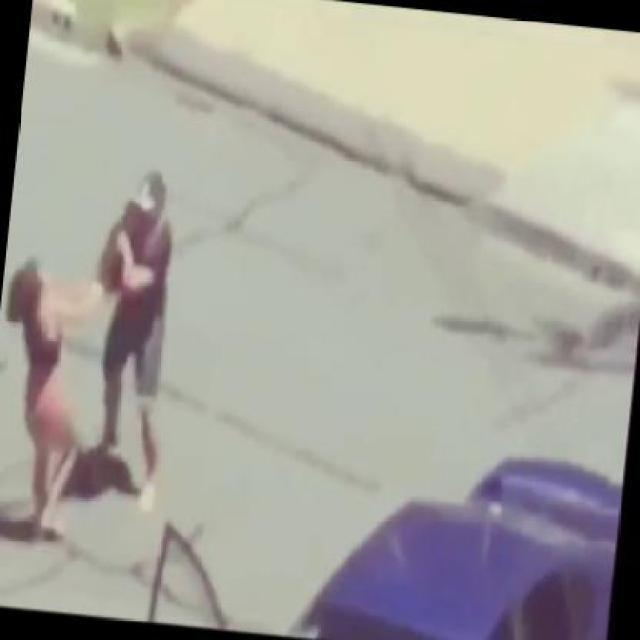fight: (0, 152, 191, 565)
